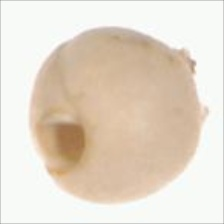L3: (34, 109, 89, 175)
L4: (30, 26, 203, 204)
